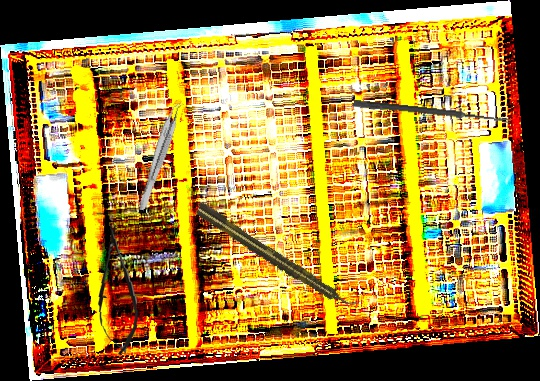Handpiece: (192, 199, 359, 316)
Micro Scissor: (92, 222, 141, 357)
Surgical Spoon: (353, 99, 511, 125)
Tissue Forceps: (137, 99, 185, 214)
